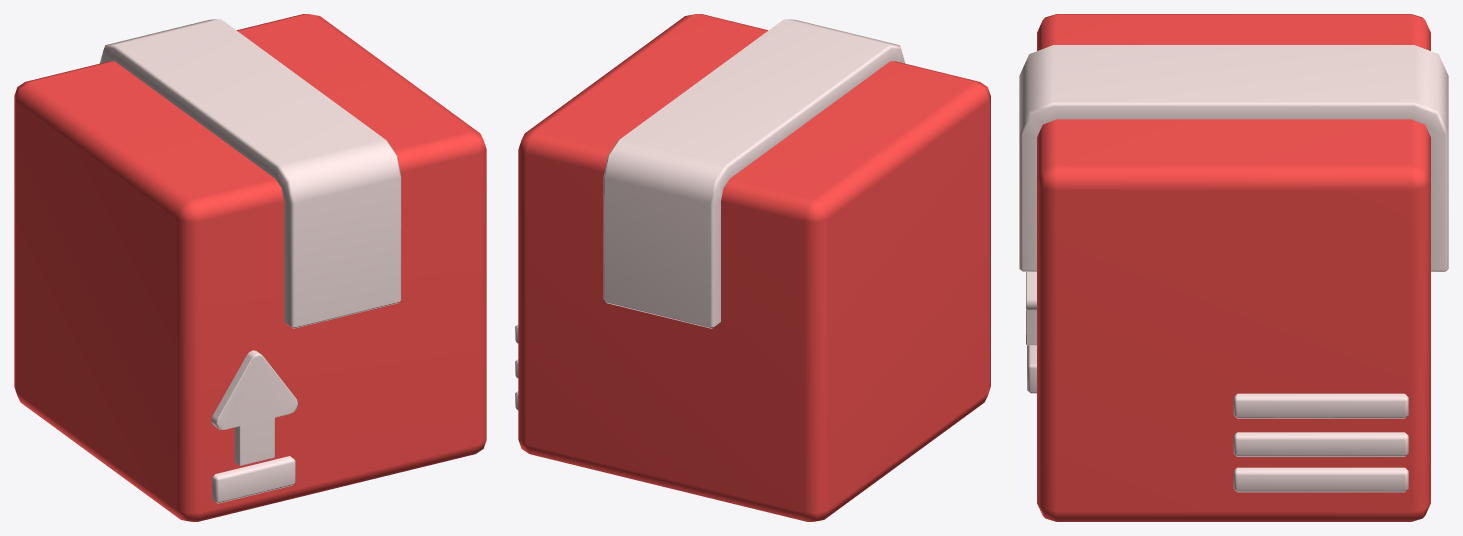
File: City_14_Parcel_2.glb
3 views of the same model, side by side, from view 1: azimuth 30°, elevation 25°; view 2: azimuth 150°, elevation 25°; view 3: azimuth 270°, elevation 25° (orthographic). The views are drawn at different scales.
Visible parts, largest first — view 1: City_14_Parcel_2; view 2: City_14_Parcel_2; view 3: City_14_Parcel_2.
Part boxes in pixels (bbox=[...]): City_14_Parcel_2: bbox=[14, 14, 486, 521]; City_14_Parcel_2: bbox=[515, 14, 990, 521]; City_14_Parcel_2: bbox=[1019, 14, 1448, 521].
Size of the model in its own units: 0.4952 by 0.5044 by 0.5261.
Materials: 1 (1 with a texture image).
